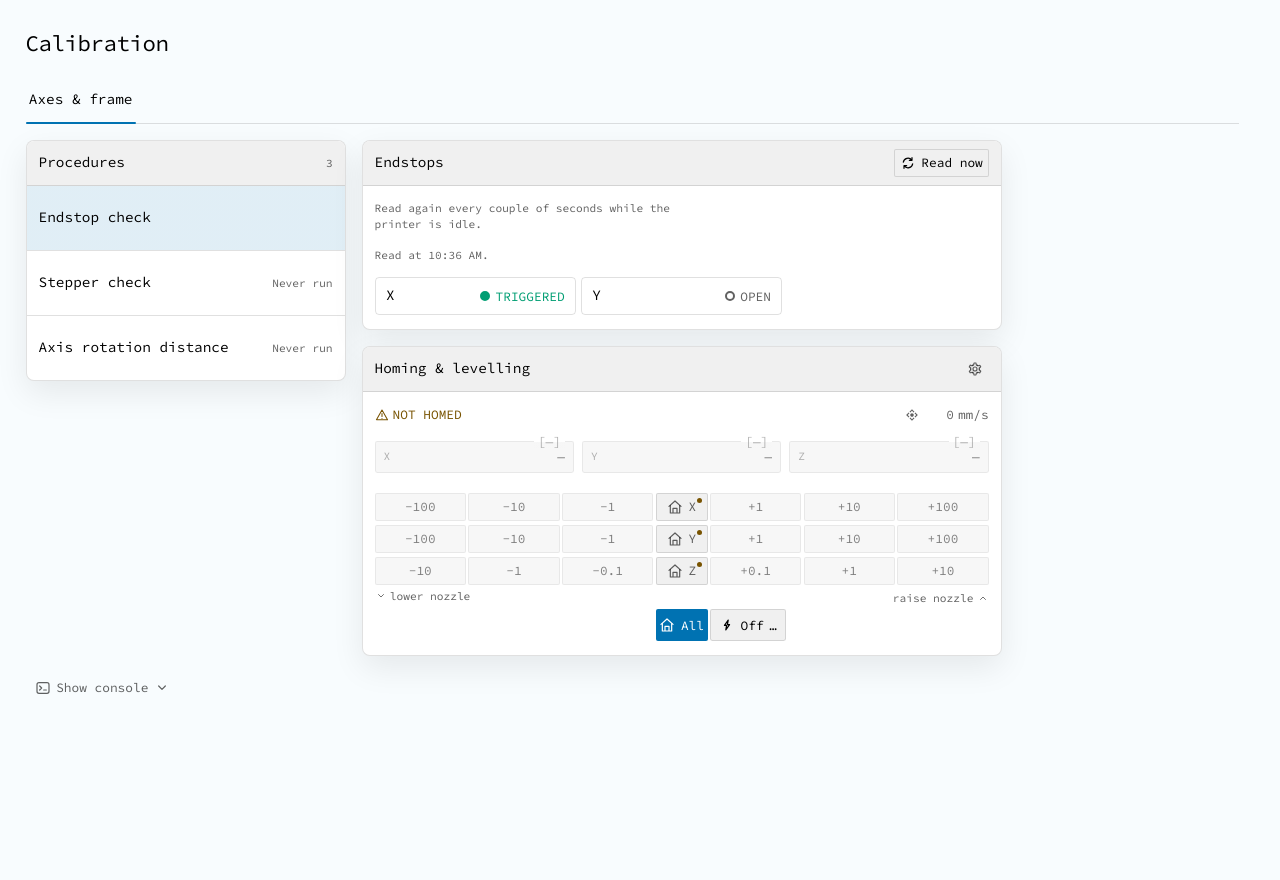
it: Calibration view › shows the stepper check result for the stepper chosen, not for the last one run
What coordinates should you click on to do the following:
click the button with class "calibration-procedure" showing "Stepper check Never run"
I would click on:
 (95, 282)
Its box is [27,251,345,315].
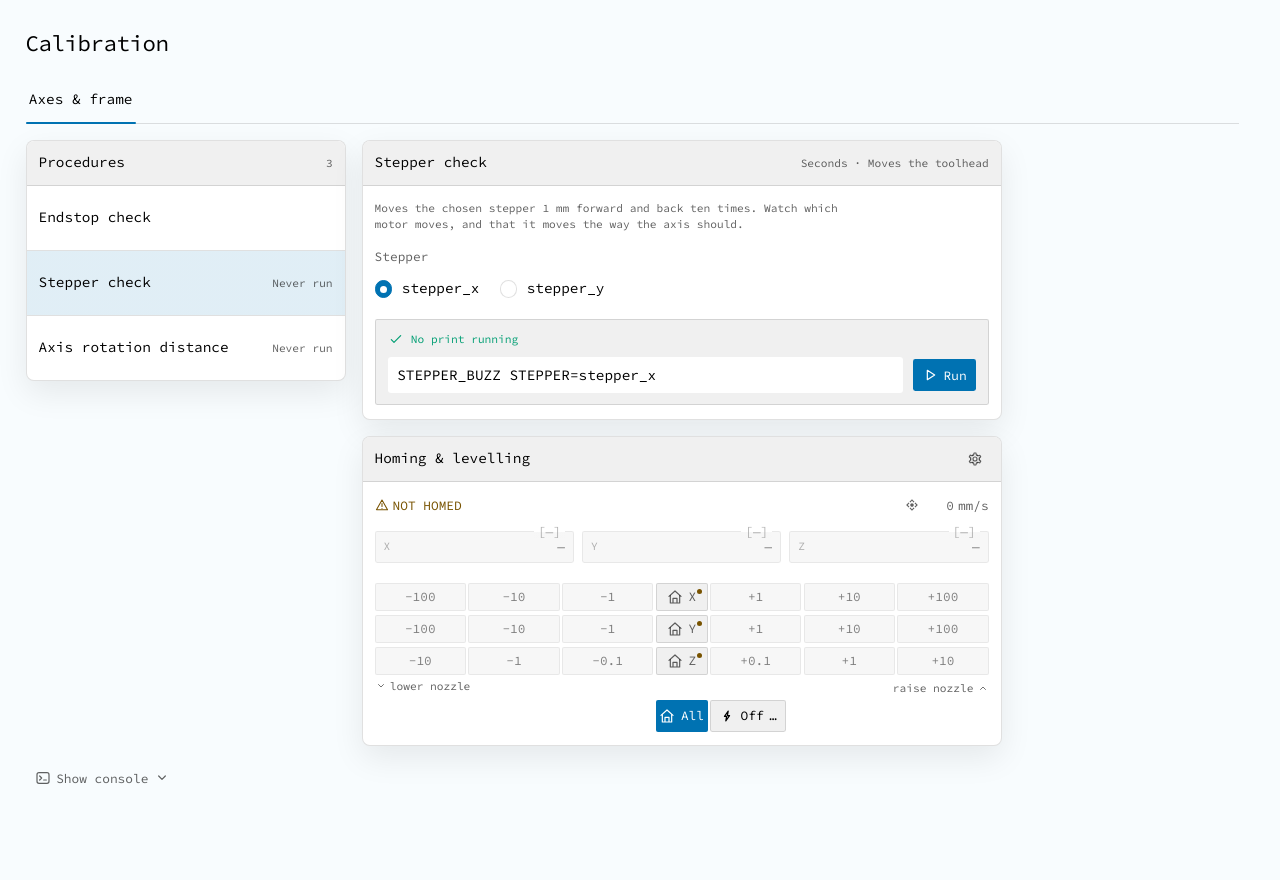
What coordinates should you click on to do the following:
click the button "Run"
I would click on:
 (944, 375)
Its box is [913,359,976,391].
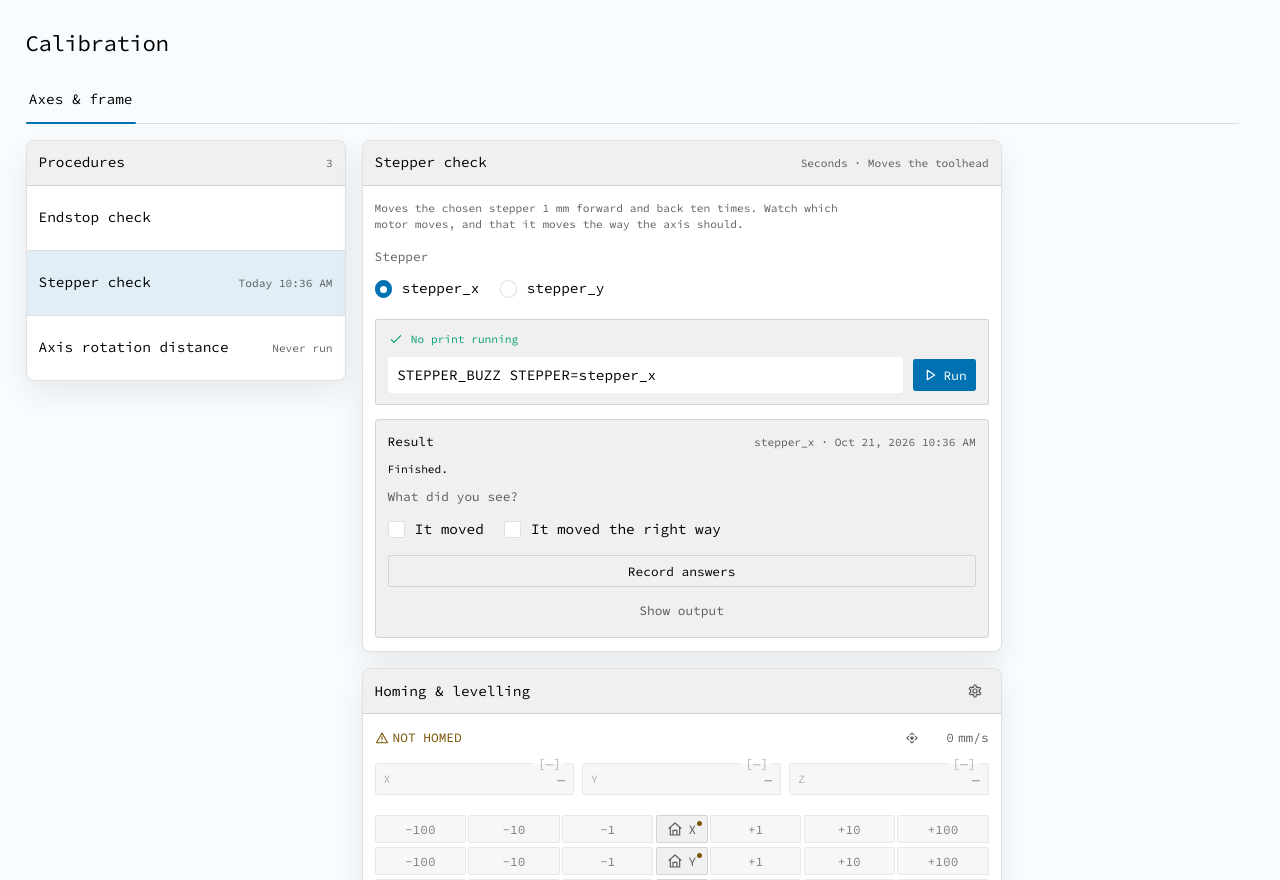
Expected: the message with class "calibration-result" shows "stepper_x", [754,435,976,449]
What coordinates should you click on to do the following:
click the radio button labelled "stepper_y"
I would click on:
 (508, 289)
Its box is [500,280,517,298].
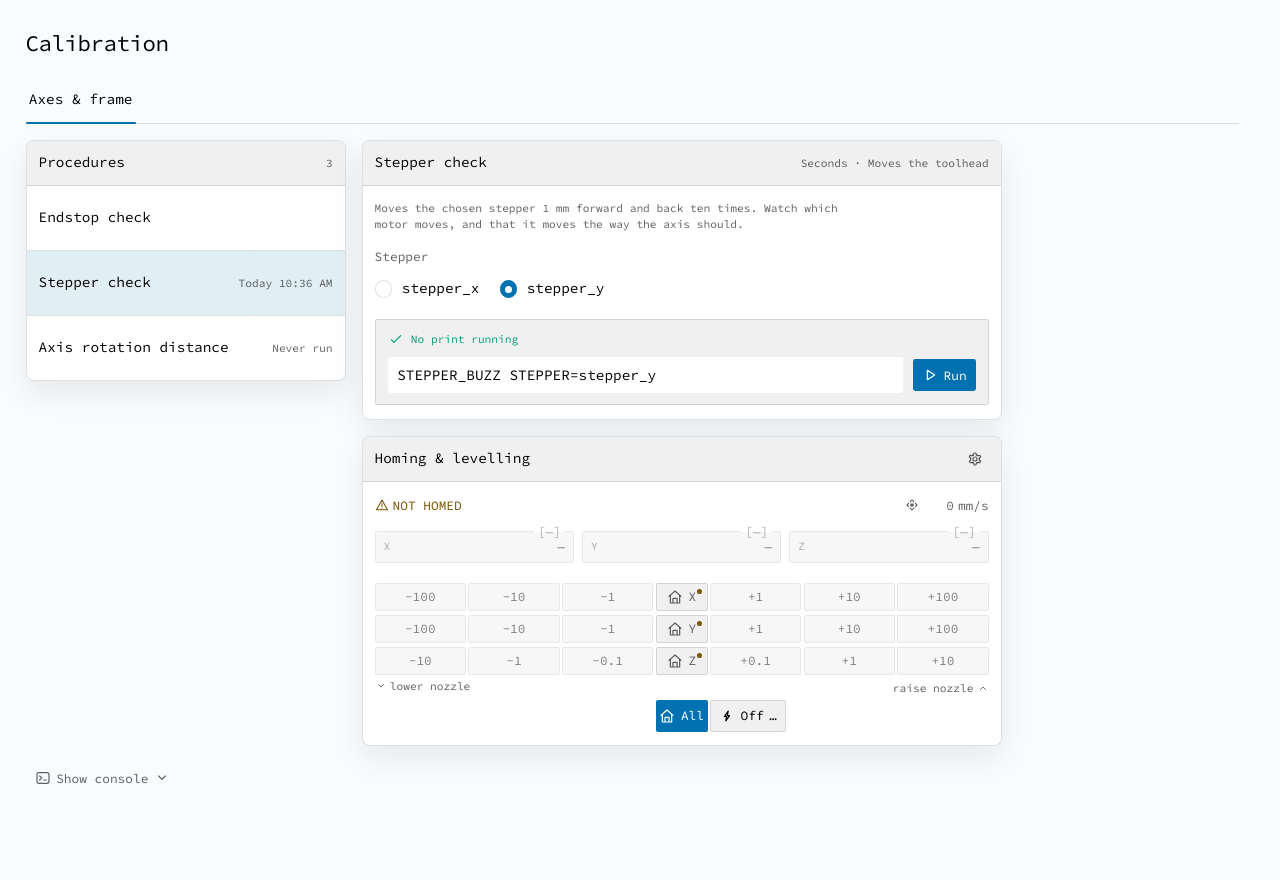
What coordinates should you click on to do the following:
click the radio button labelled "stepper_x"
I would click on:
 (383, 289)
Its box is [375,280,392,298].
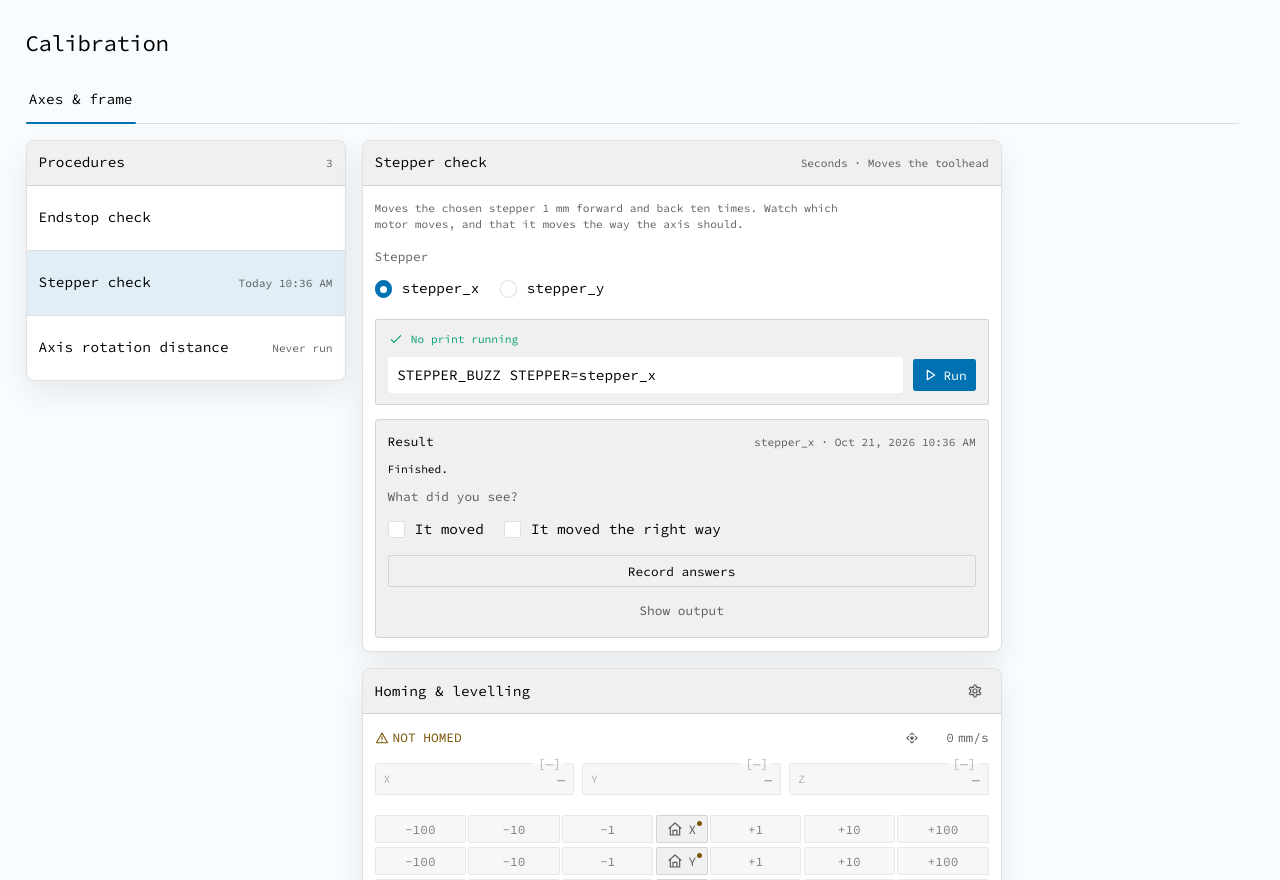
Expected: the message with class "calibration-result" shows "stepper_x", [754,435,976,449]
